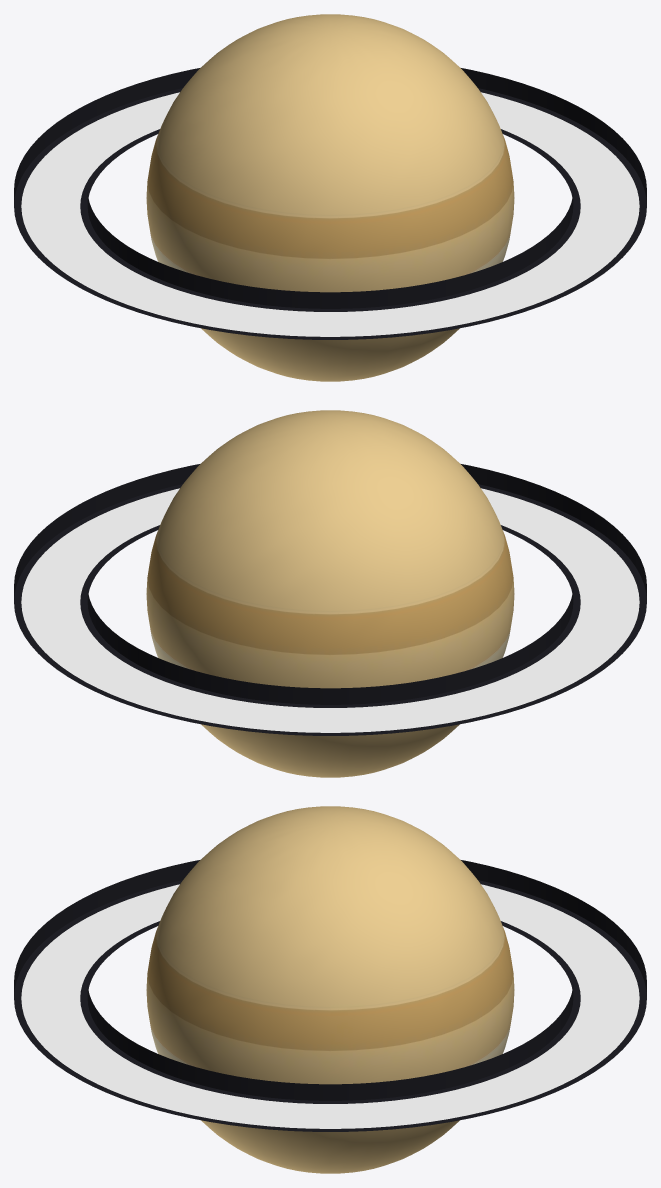
Rendered from ball_saturn.glb.
3 renders of one model, top to bottom at view 1: azimuth 30°, elevation 25°; view 2: azimuth 150°, elevation 25°; view 3: azimuth 270°, elevation 25°, orthographic.
Parts seen in each view (by area): view 1: ball_saturn, ring; view 2: ball_saturn, ring; view 3: ball_saturn, ring.
Boxes of the visible parts, bbox=[...] form: ball_saturn: bbox=[146, 14, 514, 381]; ring: bbox=[14, 68, 646, 339]; ball_saturn: bbox=[146, 410, 514, 777]; ring: bbox=[14, 464, 646, 735]; ball_saturn: bbox=[146, 806, 514, 1173]; ring: bbox=[14, 860, 646, 1131].
Bounding box in the file's own units: 1.72 × 1 × 1.72.
Materials: 2 (1 with a texture image).
